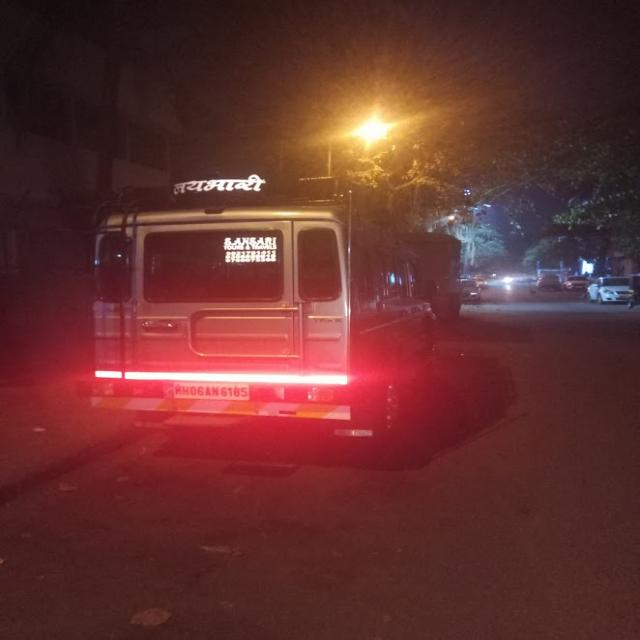Number-Plate: (222, 231, 277, 262), (172, 382, 248, 402)
